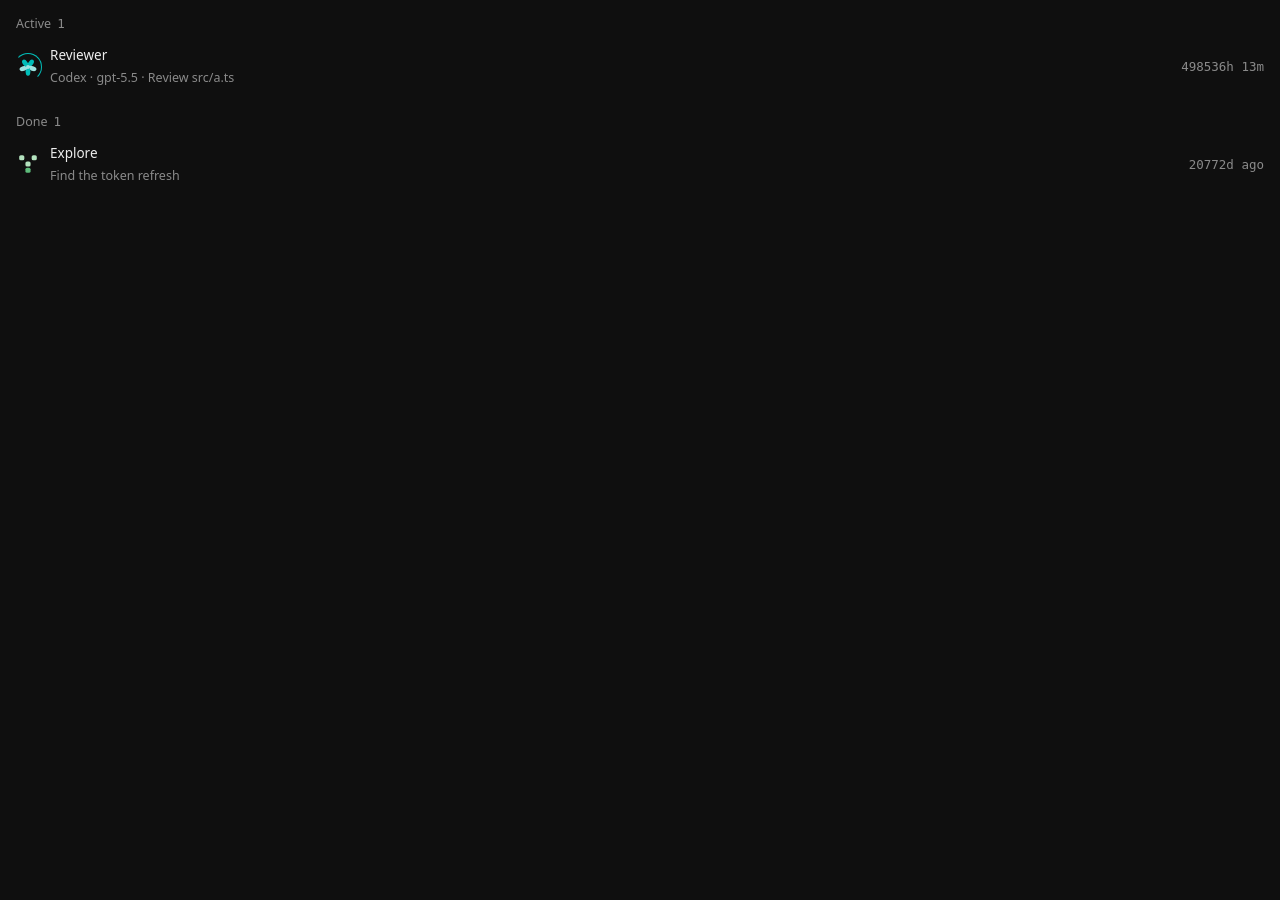
Test: prompting a subagent from its detail › sends a follow-up to a TasteCode child and clears the draft
Click the button "Reviewer Codex · gpt-5.5 · Review src/a.ts 498536h 13m": click(79, 55) [8,39,1272,94]
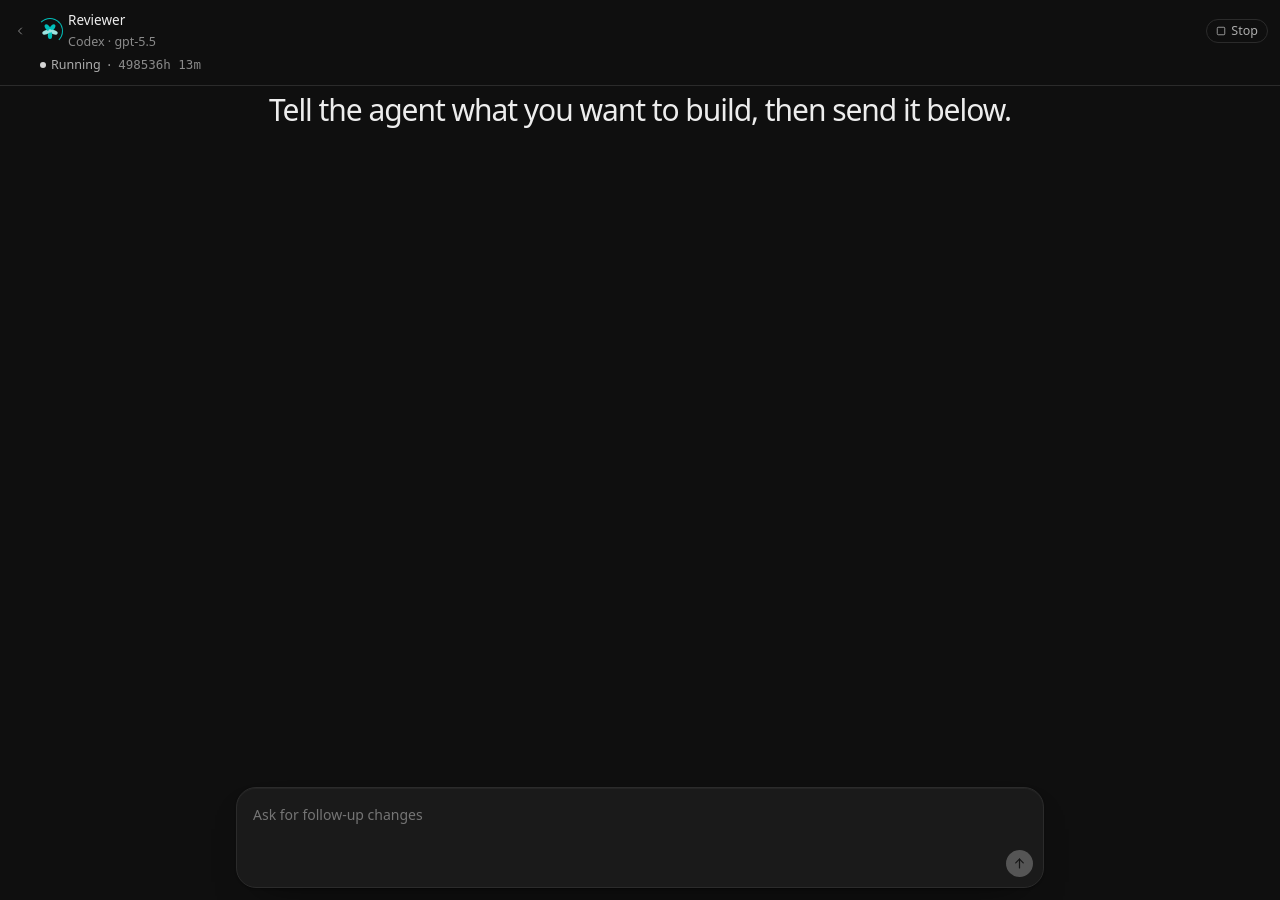
In the text box named "Message subagent": (640, 835) [237,788,1043,882], type "  Also check src/b.ts.  "
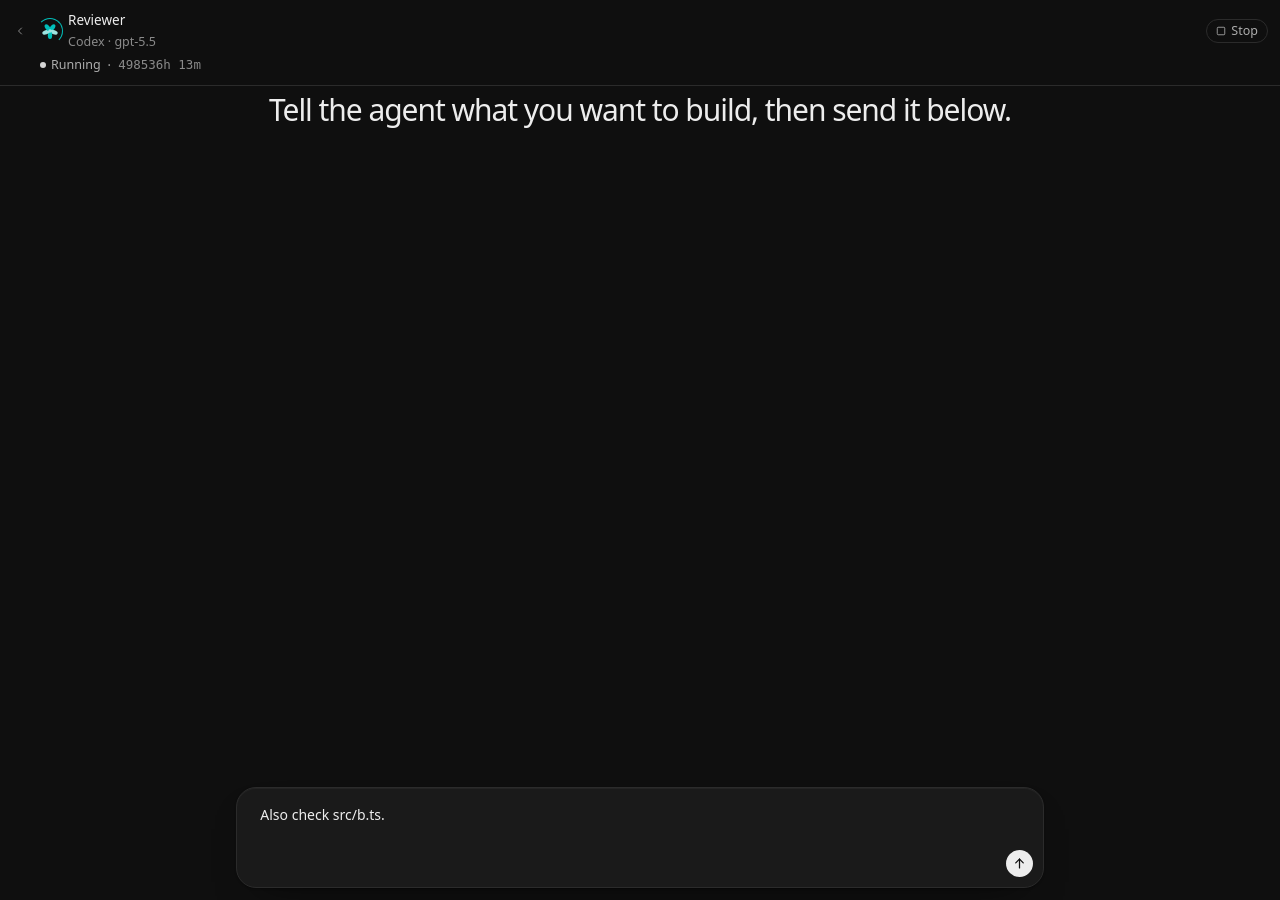
Press Enter in the text box named "Message subagent", box [237,788,1043,882]
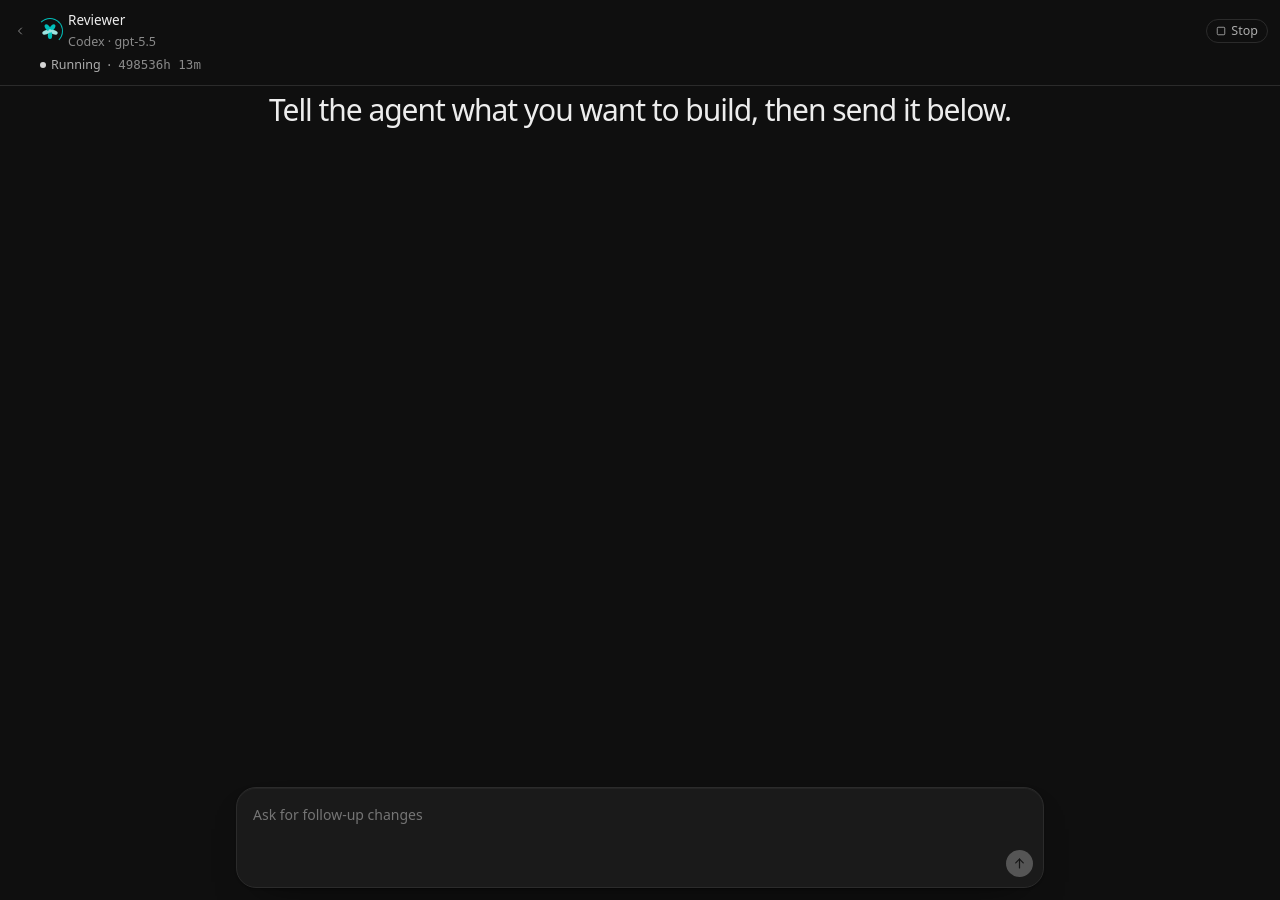
Now the text box named "Message subagent" is empty, box [237,788,1043,882]
